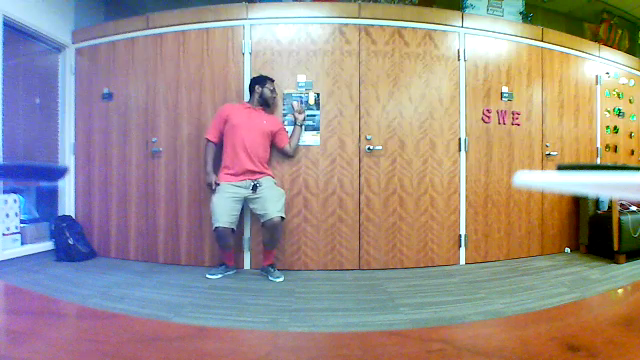peace: (286, 93, 308, 125)
